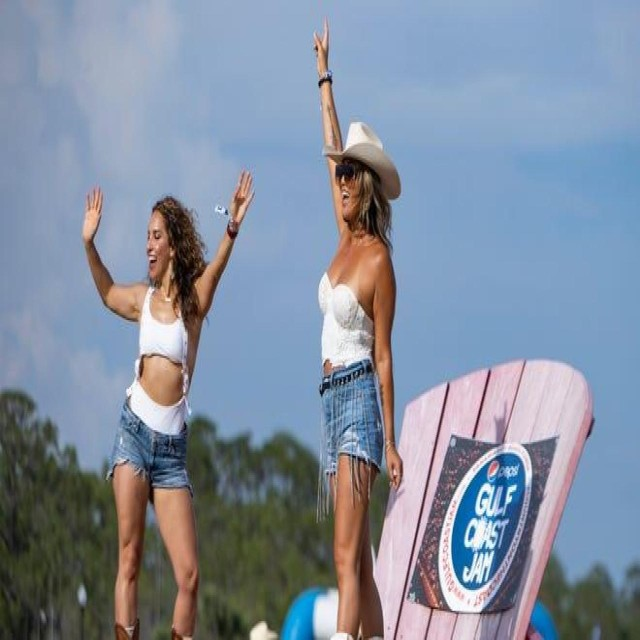pepsi: (485, 457, 503, 488)
